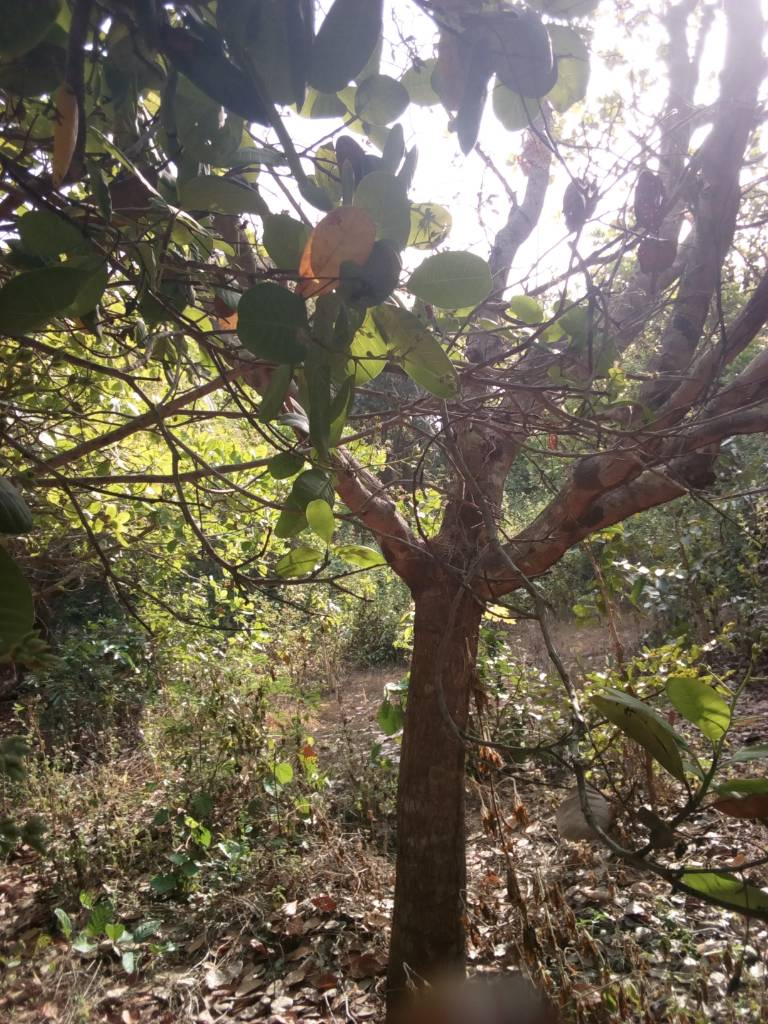Termites: (400, 741, 468, 958)
